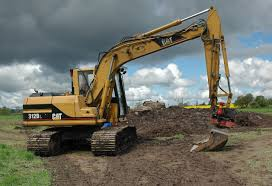excavator: (20, 7, 235, 165)
